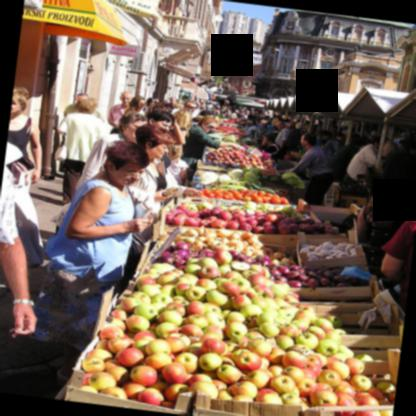handbag: (45, 179, 122, 274), (124, 233, 146, 279), (6, 156, 36, 174), (52, 131, 67, 161)
